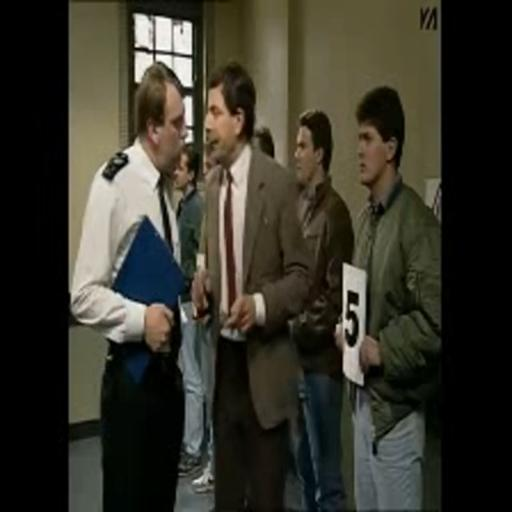nao-violencia: (68, 48, 323, 511)
